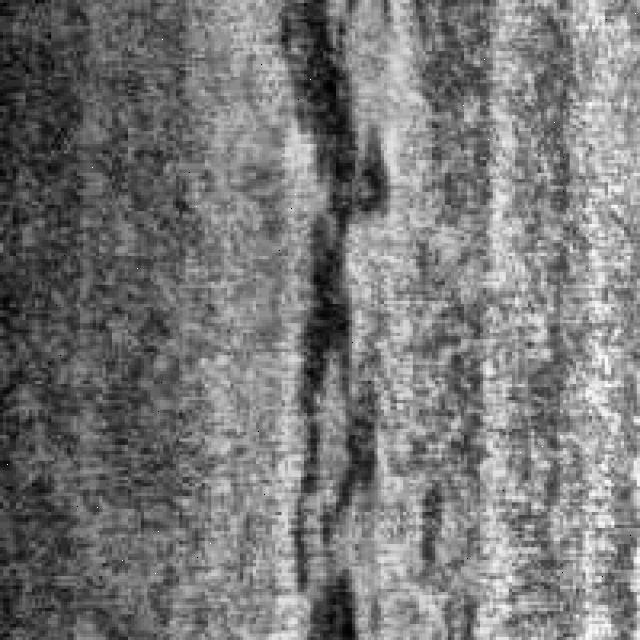Patches: (256, 0, 394, 627)
